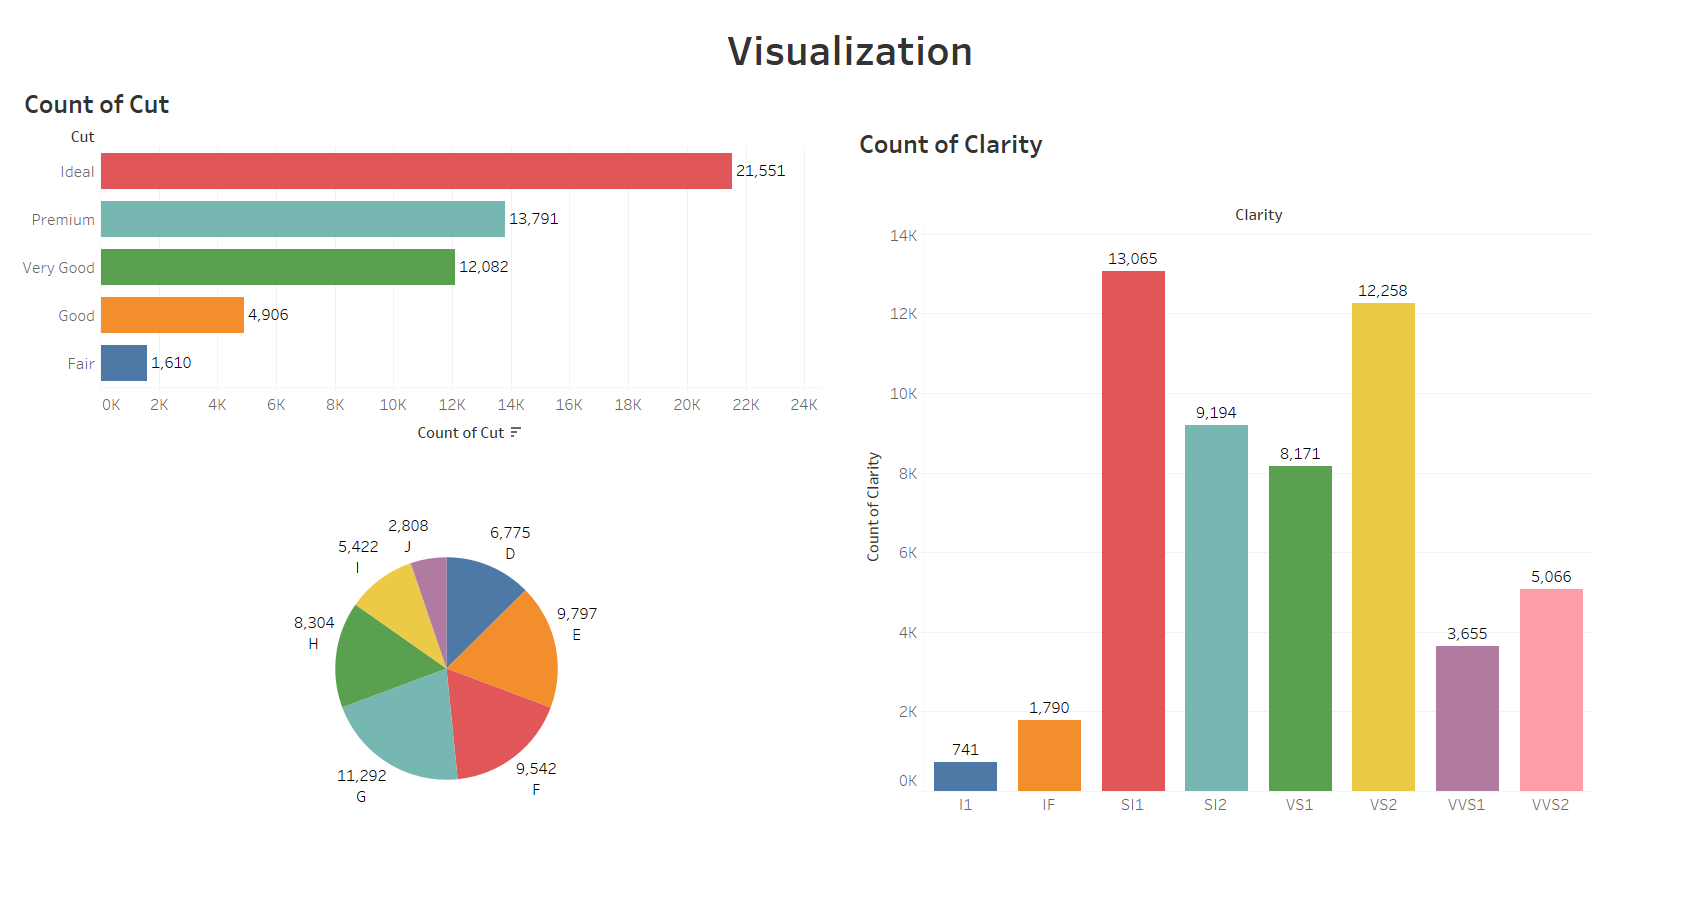

What the dashboard file says about the page in this screenshot:
{"tool":"tableau","page":{"name":"Dashboard 2","canvas":[1700,900],"ordinal":0},"visuals":[{"type":"title","box":[8,8,1684,81]},{"type":"worksheet","title":"Sheet 3","mark":"Automatic","rows":["cut"],"cols":["cut"],"box":[20,80,802,370]},{"type":"worksheet","title":"Sheet 1","mark":"Automatic","rows":["clarity"],"cols":["clarity"],"box":[855,120,738,696]},{"type":"worksheet","title":"Sheet 5","mark":"Pie","box":[90,431,713,460]}]}

Visuals, with their boxes in screenshot pixels (x1, y1, x2, y2), scaled from the page's 1700x900 canvas onto the 1700x900 screenshot:
title: select_region(8, 8, 1692, 89)
"Sheet 3" worksheet: select_region(20, 80, 822, 450)
"Sheet 1" worksheet: select_region(855, 120, 1593, 816)
"Sheet 5" worksheet (Pie marks): select_region(90, 431, 803, 891)
